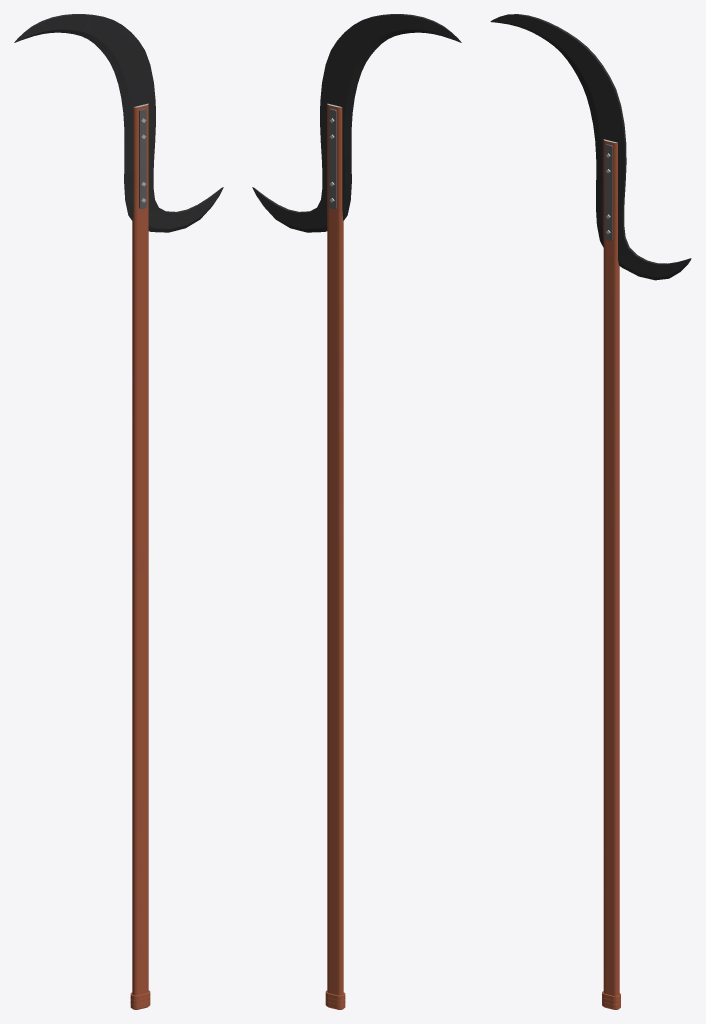
Rendered from WarScythe.glb.
3 renders of one model, left to right at view 1: azimuth 30°, elevation 25°; view 2: azimuth 150°, elevation 25°; view 3: azimuth 330°, elevation 25°, orthographic. The views are drawn at different scales.
Visible parts, largest first — view 1: War Scythe; view 2: War Scythe; view 3: War Scythe.
Boxes of the visible parts, x1,y1,x2,y2 form: War Scythe: (14,14,223,1009); War Scythe: (252,14,461,1009); War Scythe: (490,14,691,1009).
Size of the model in its own units: 0.4571 by 2.11 by 0.0291.
Materials: 1 (1 with a texture image).
